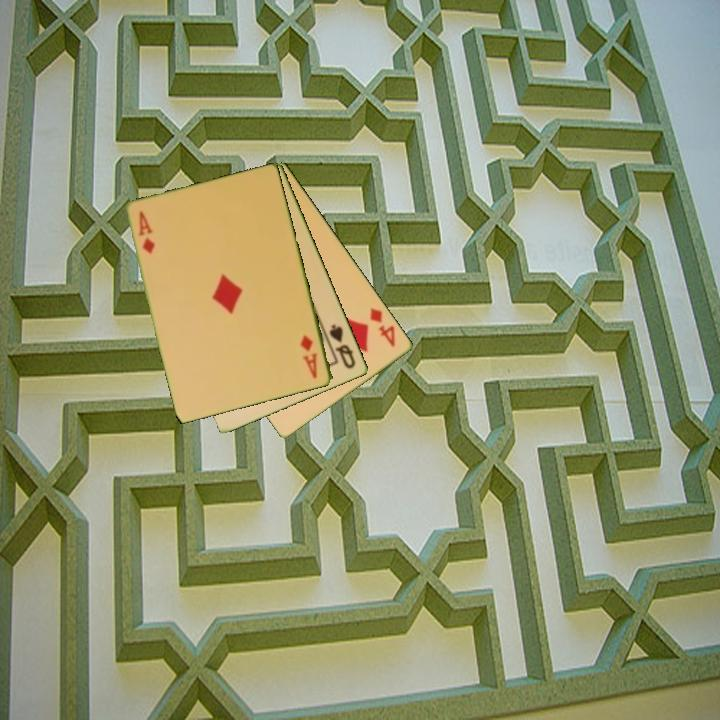4d: (367, 304, 399, 350)
Ad: (297, 331, 321, 382), (136, 208, 158, 257)
Qs: (326, 321, 359, 372)
